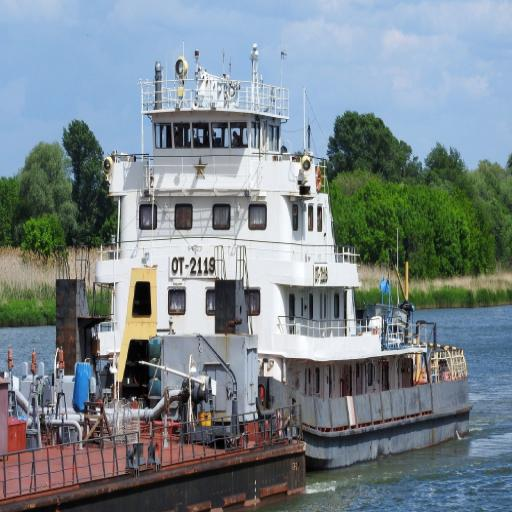tugboat: (52, 47, 477, 479)
